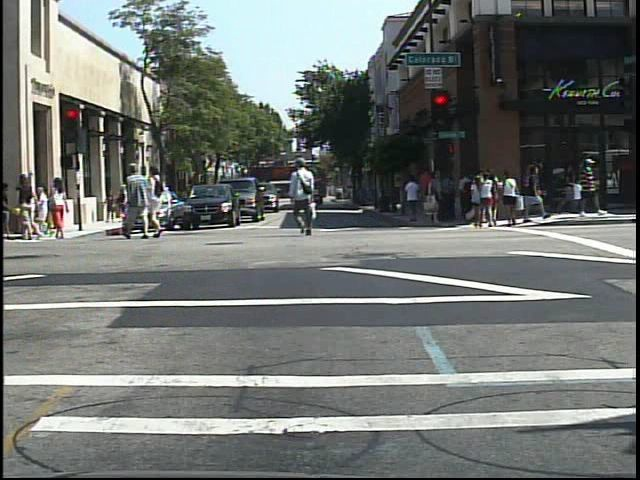person: (288, 155, 321, 241), (122, 160, 151, 241), (573, 155, 607, 219), (15, 170, 41, 247), (49, 173, 75, 244), (147, 163, 169, 238), (469, 174, 486, 232)
